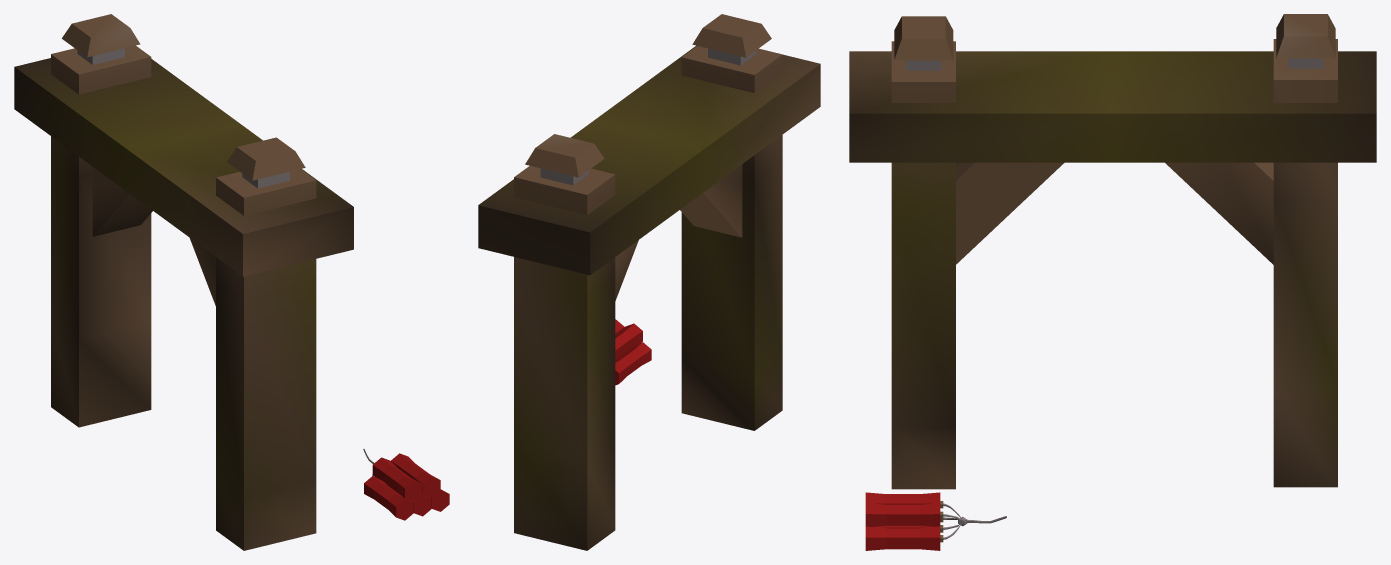
The model's file is EntradaMina.fbx.
The picture shows the model from 3 angles, left to right: view 1: azimuth 30°, elevation 25°; view 2: azimuth 150°, elevation 25°; view 3: azimuth 270°, elevation 25°; orthographic projection. The views are drawn at different scales.
Visible parts, largest first — view 1: LOD_0; view 2: LOD_0; view 3: LOD_0.
Part boxes in pixels (x1,y1,x2,y2): LOD_0: (14, 14, 449, 550); LOD_0: (478, 14, 820, 550); LOD_0: (849, 14, 1376, 550).
Size of what is drawn, in the model's own units: 151 by 260 by 280.
